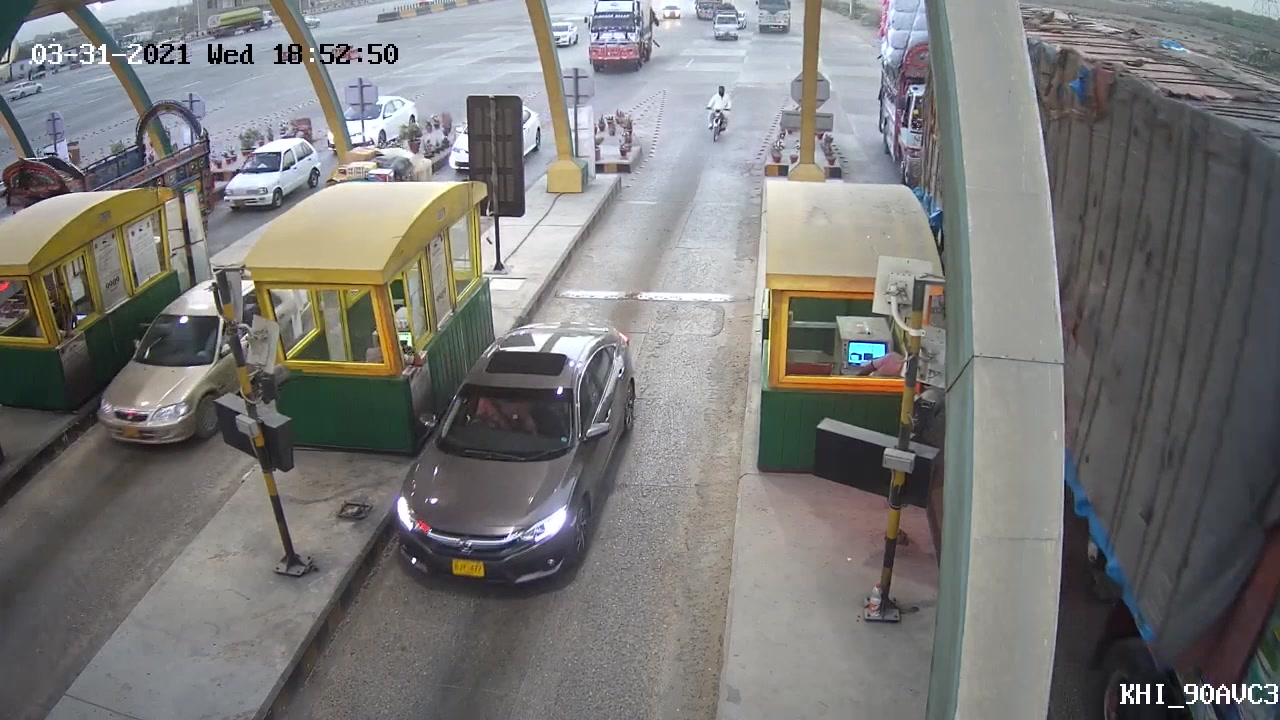F1: (392, 320, 645, 593)
